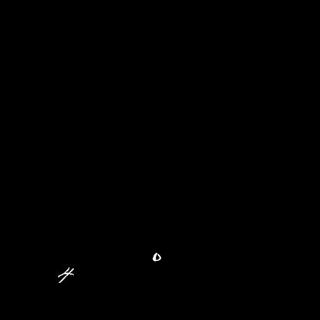four: (55, 259, 78, 285)
zero: (148, 245, 165, 266)
